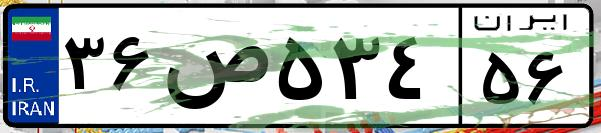3: (330, 28, 385, 110), (57, 26, 110, 100)
4: (385, 28, 445, 110)
5: (270, 28, 330, 110), (475, 38, 525, 113)
6: (525, 38, 570, 115), (110, 28, 158, 98)
ص: (158, 20, 270, 120)
